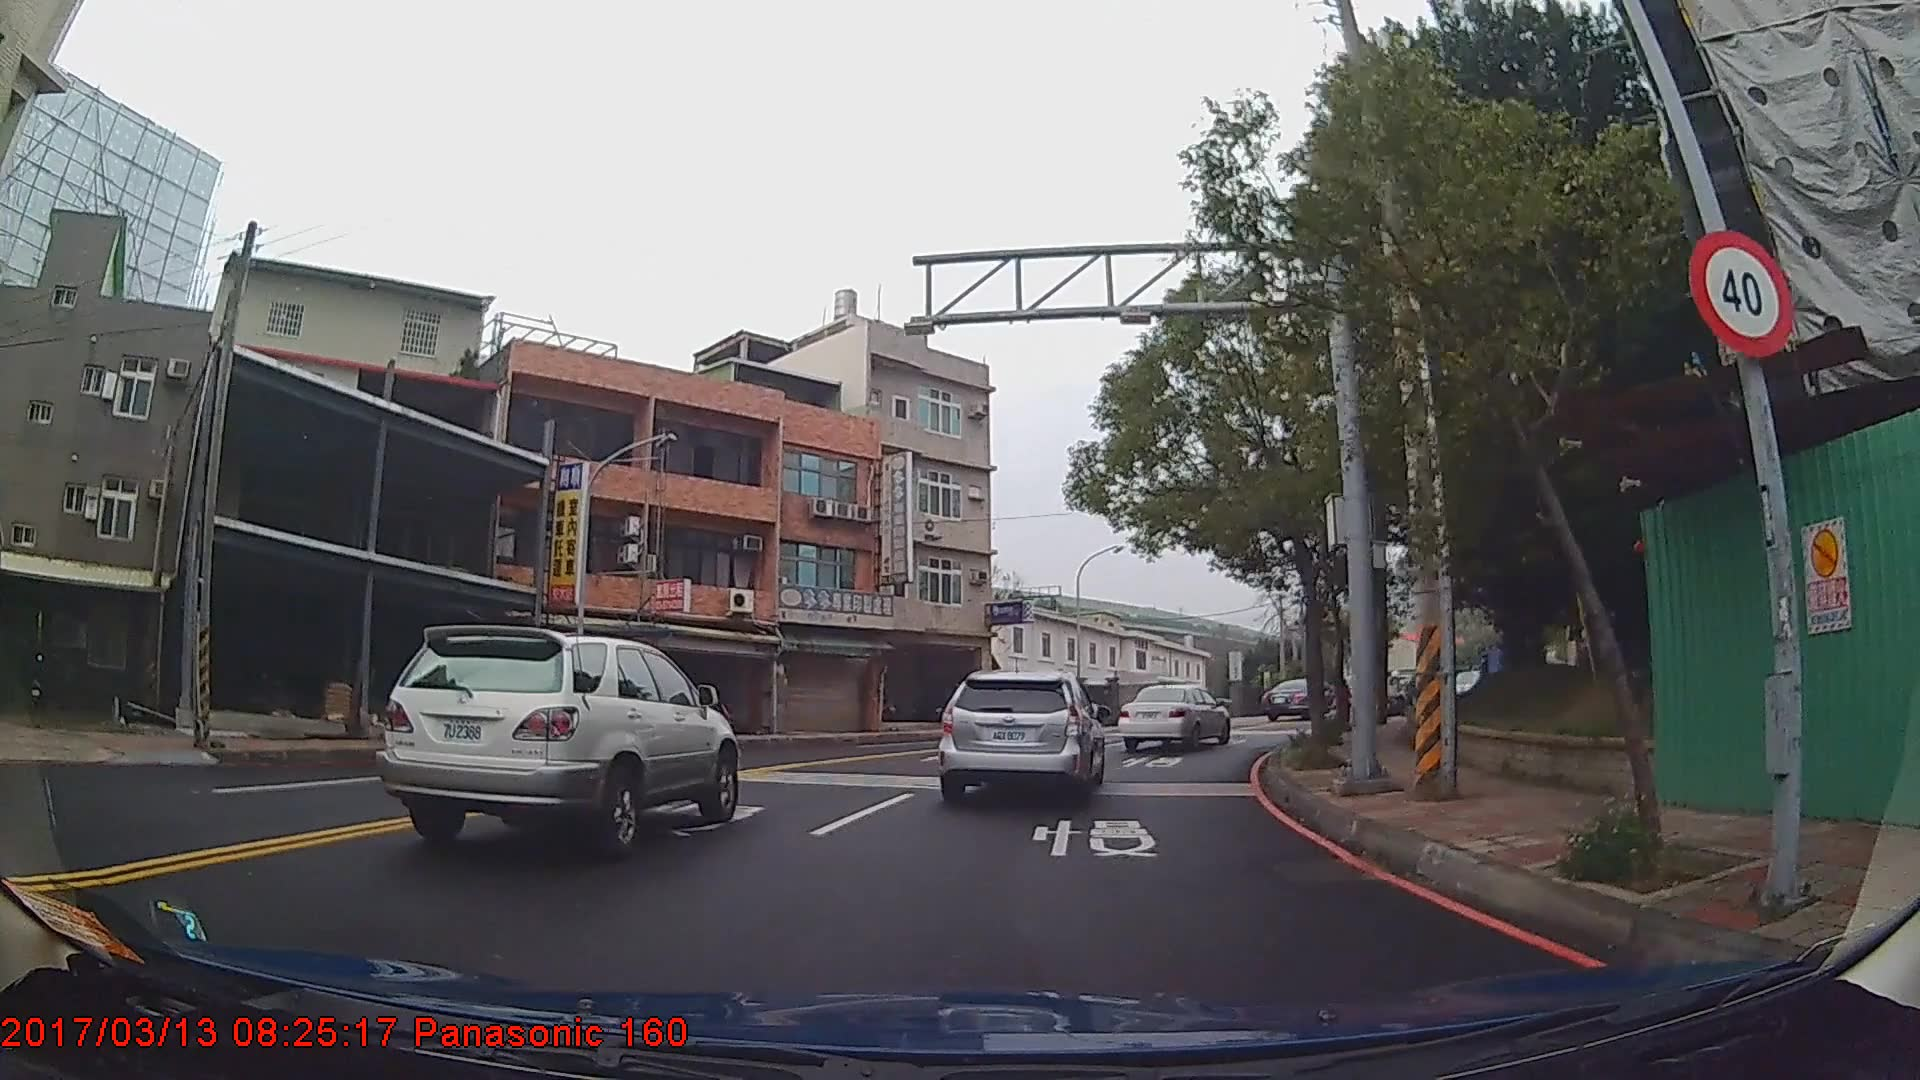vehicle: (373, 624, 742, 860), (935, 669, 1104, 804), (1116, 683, 1232, 752), (1258, 676, 1331, 723)
